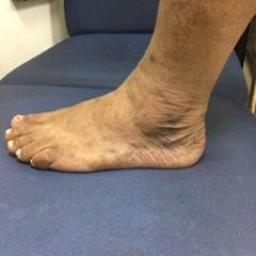Lateral View -Left Foot-: (2, 66, 223, 183)
